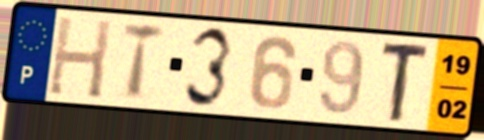3: (180, 25, 243, 111)
6: (247, 34, 299, 112)
9: (316, 38, 365, 118)
H: (45, 13, 115, 102)
T: (378, 42, 434, 125), (119, 20, 168, 103)
